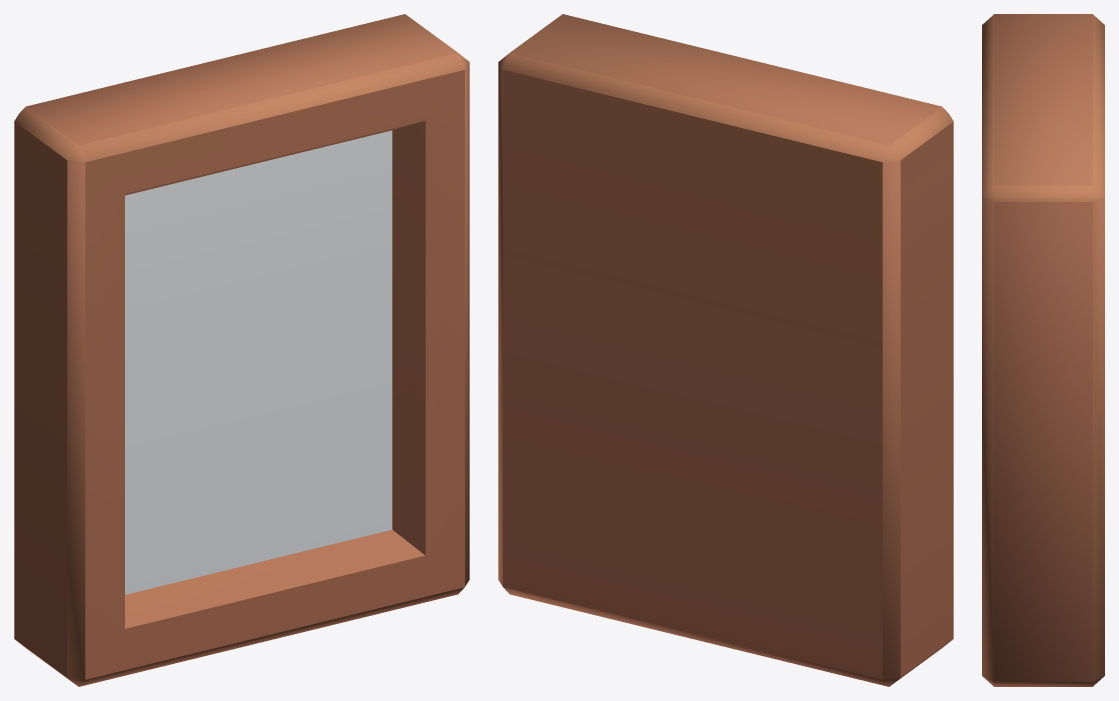
File: pictureframe_medium.glb
3 views of the same model, side by side, from view 1: azimuth 30°, elevation 25°; view 2: azimuth 150°, elevation 25°; view 3: azimuth 270°, elevation 25° (orthographic). The views are drawn at different scales.
Visible parts, largest first — view 1: pictureframe_medium; view 2: pictureframe_medium; view 3: pictureframe_medium.
Boxes of the visible parts, bbox=[...] form: pictureframe_medium: bbox=[14, 14, 469, 686]; pictureframe_medium: bbox=[498, 14, 953, 686]; pictureframe_medium: bbox=[982, 14, 1104, 686].
Size of the model in its own units: 0.7 by 0.9 by 0.2.
Materials: 1 (1 with a texture image).
